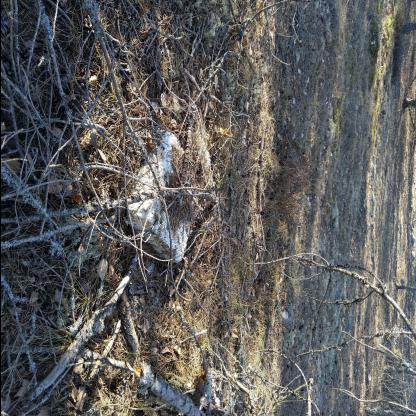kopuk: (126, 130, 198, 262)
